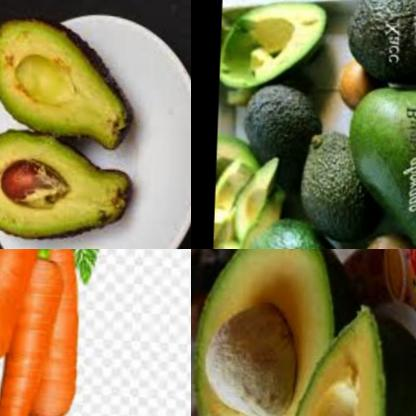avocado: (191, 249, 345, 416), (0, 8, 154, 138), (0, 134, 144, 241), (275, 307, 416, 416), (338, 84, 416, 249), (230, 88, 310, 216), (297, 115, 374, 240), (219, 0, 320, 88), (211, 129, 275, 249), (329, 0, 416, 87), (227, 215, 387, 249)
carrot: (21, 249, 111, 416), (0, 249, 73, 416), (0, 249, 59, 364)
